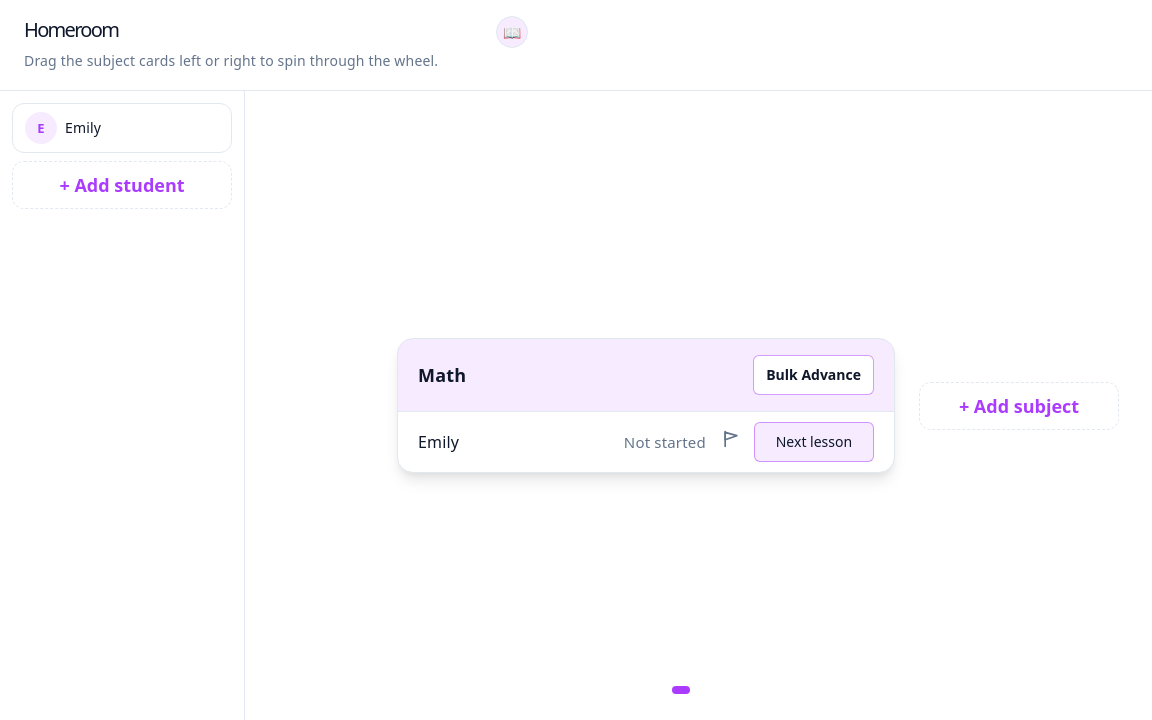
ClassBoard › right-click -> "Review other lessons" opens the checklist modal, distinct from "Jump to lesson..." (#153)
The width and height of the screenshot is (1152, 720).
Right-click the text "Emily" next to "Not started".
right_click(439, 442)  # box [418,431,459,453]
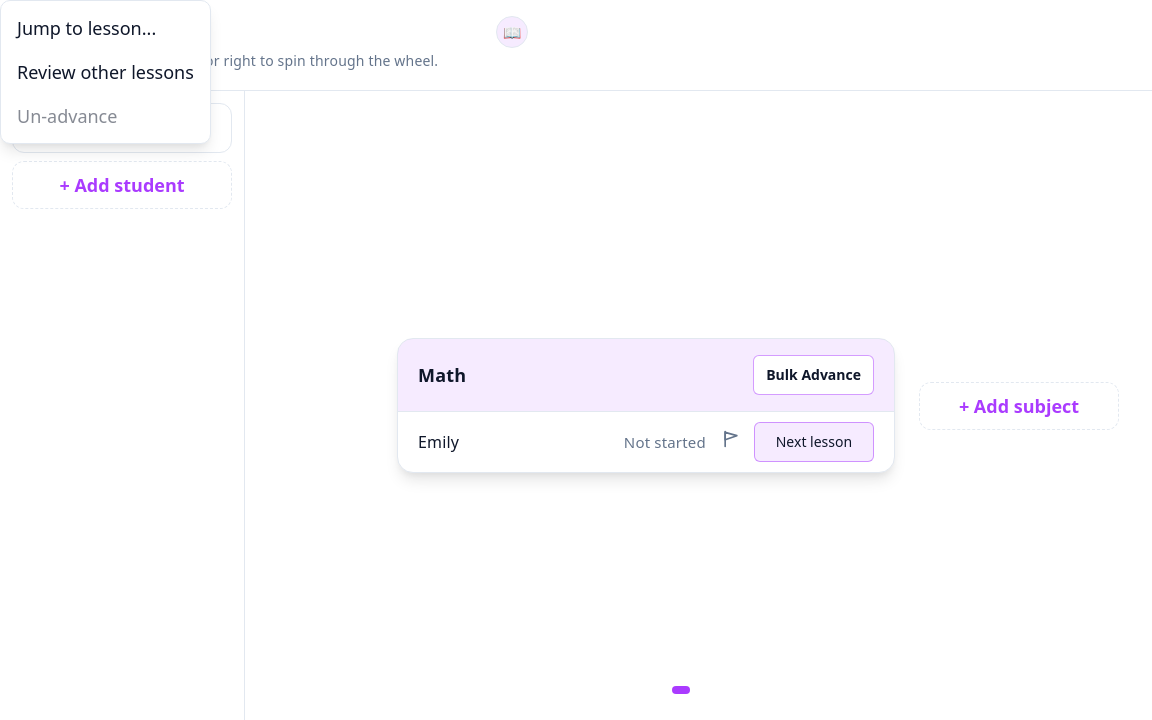
Check: the menu item "Jump to lesson..." is shown, box [7,7,204,49]
Check: the menu item "Review other lessons" is shown
Click the menu item "Review other lessons".
click(105, 72)  # box [7,51,204,93]
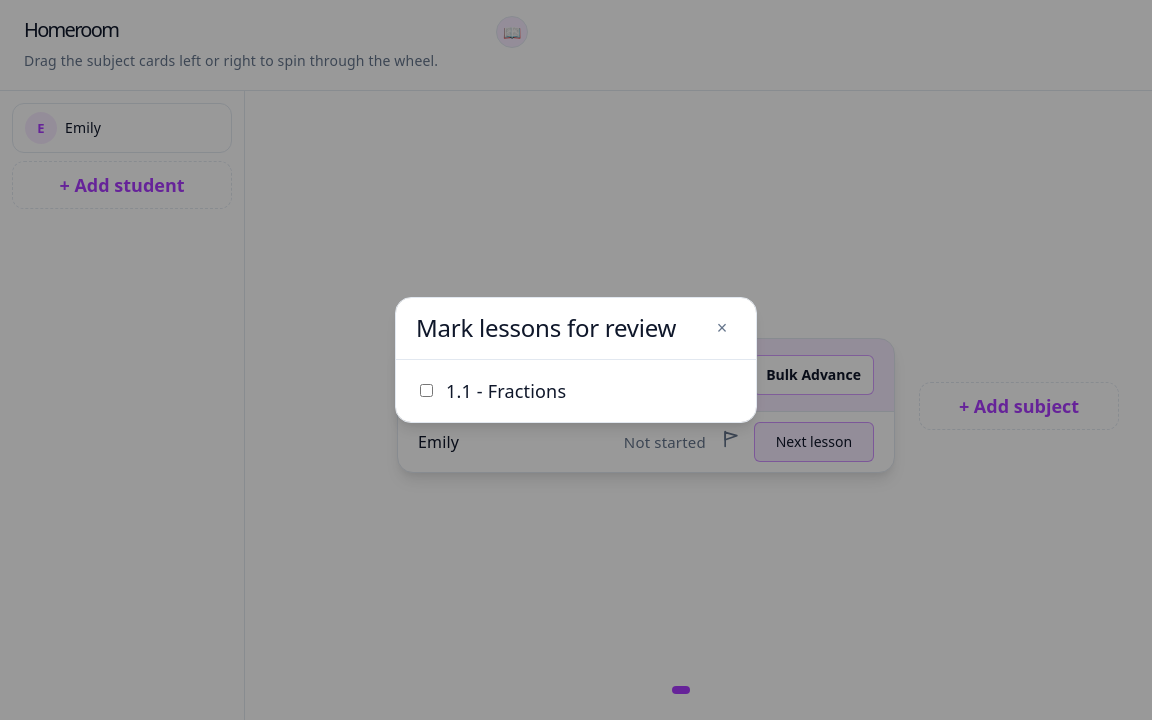
Check: the dialog named "Mark lessons for review for Emily" is shown, box [395,297,757,423]
Check: the checkbox labelled "1.1 - Fractions" is shown, box [420,384,433,397]
